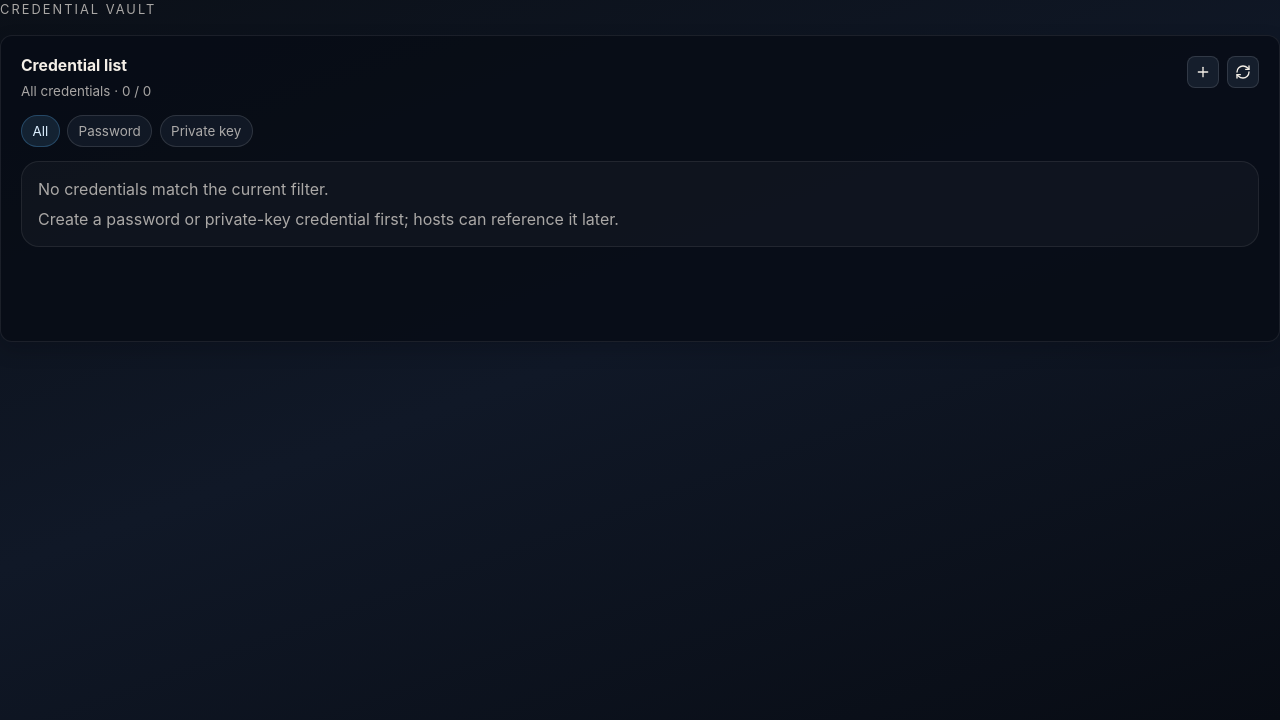
Test: CredentialsPage › creates a password credential and refreshes the list
The width and height of the screenshot is (1280, 720).
Expected: the text "No credentials match the current filter." is shown, [38,179,329,199]
Click the button named "New credential".
click(1203, 72)  # box [1187,56,1219,88]
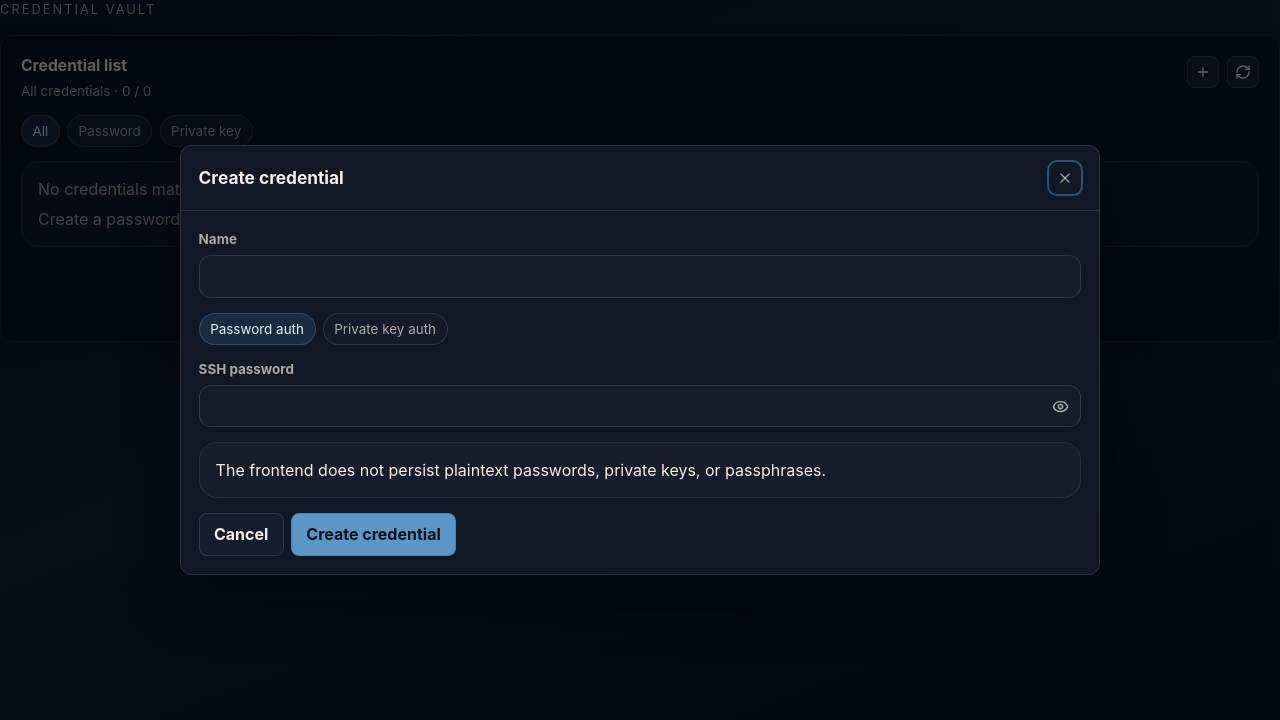
Type "Password Login" into the field labelled "Name".
click(640, 277); type("Password Login")  # box [199,255,1081,298]
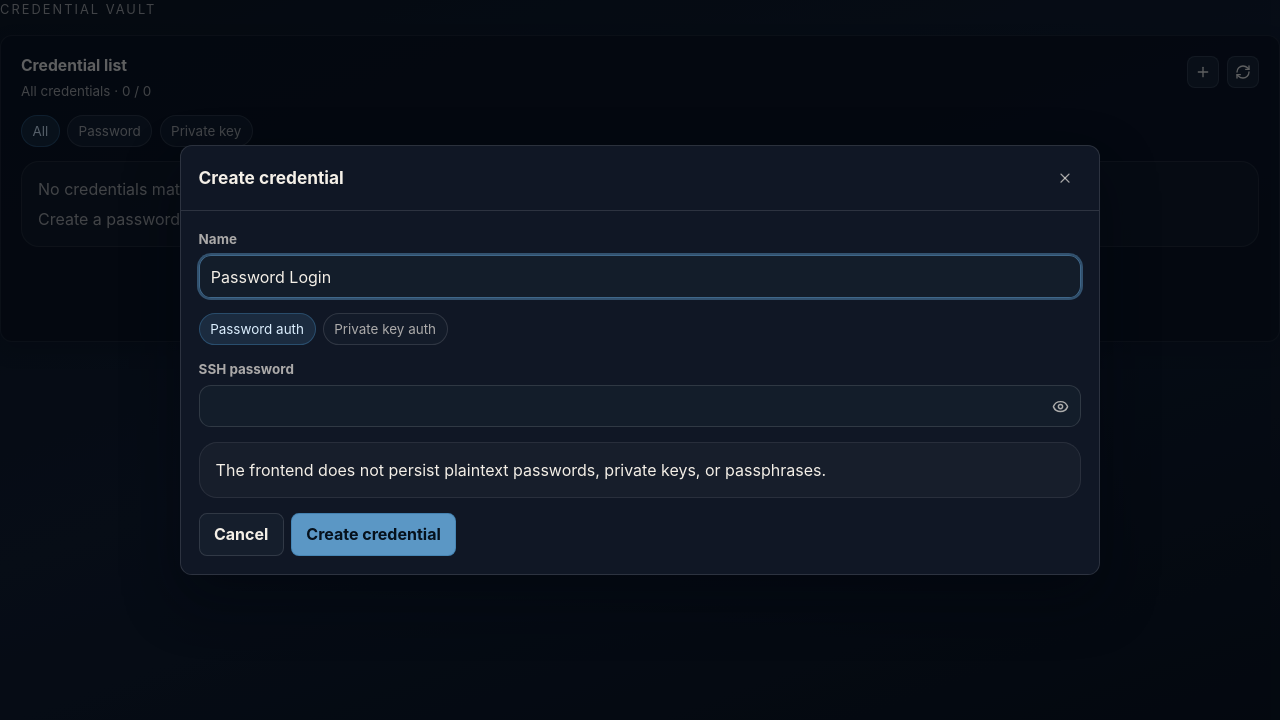
Type "secret-password" into the password field labelled "SSH password".
click(620, 406); type("secret-password")  # box [200,386,1040,426]
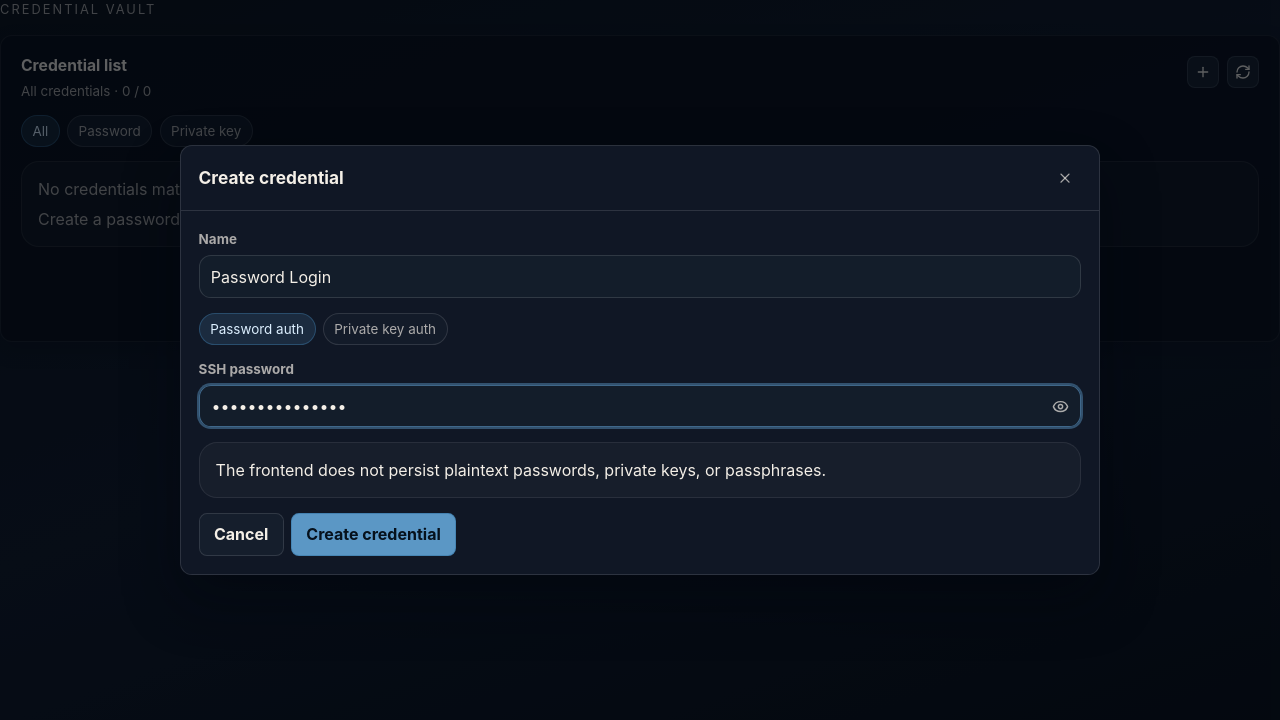
Click the button "Create credential".
click(374, 534)  # box [291,513,456,556]
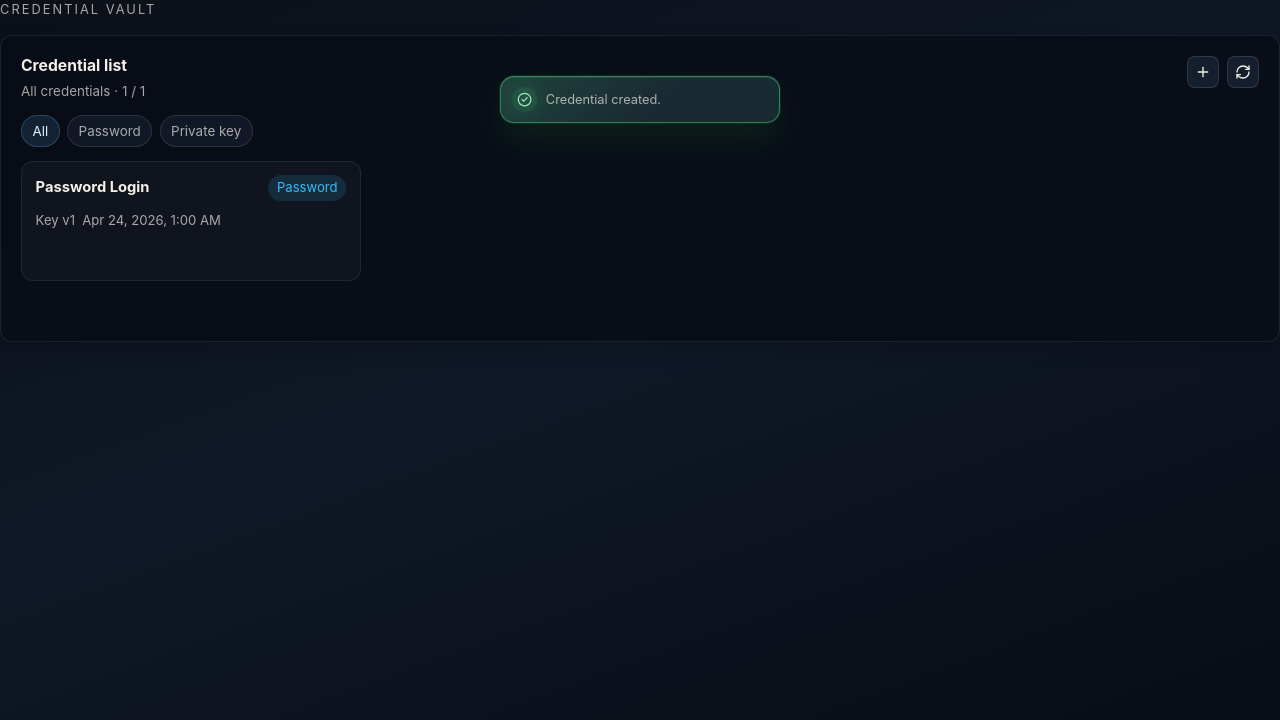
Expected: the text "Credential created." is shown, [546,92,661,107]
Expected: the text "Password Login" is shown, [36,178,150,198]
